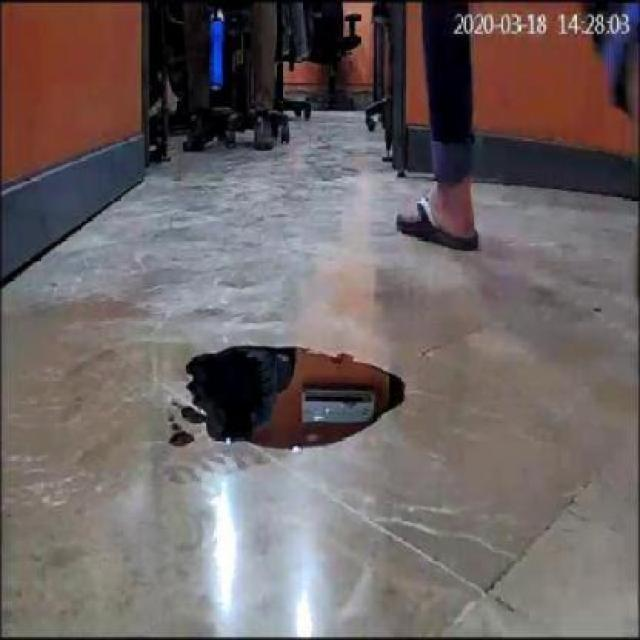spillage: (170, 340, 407, 457)
